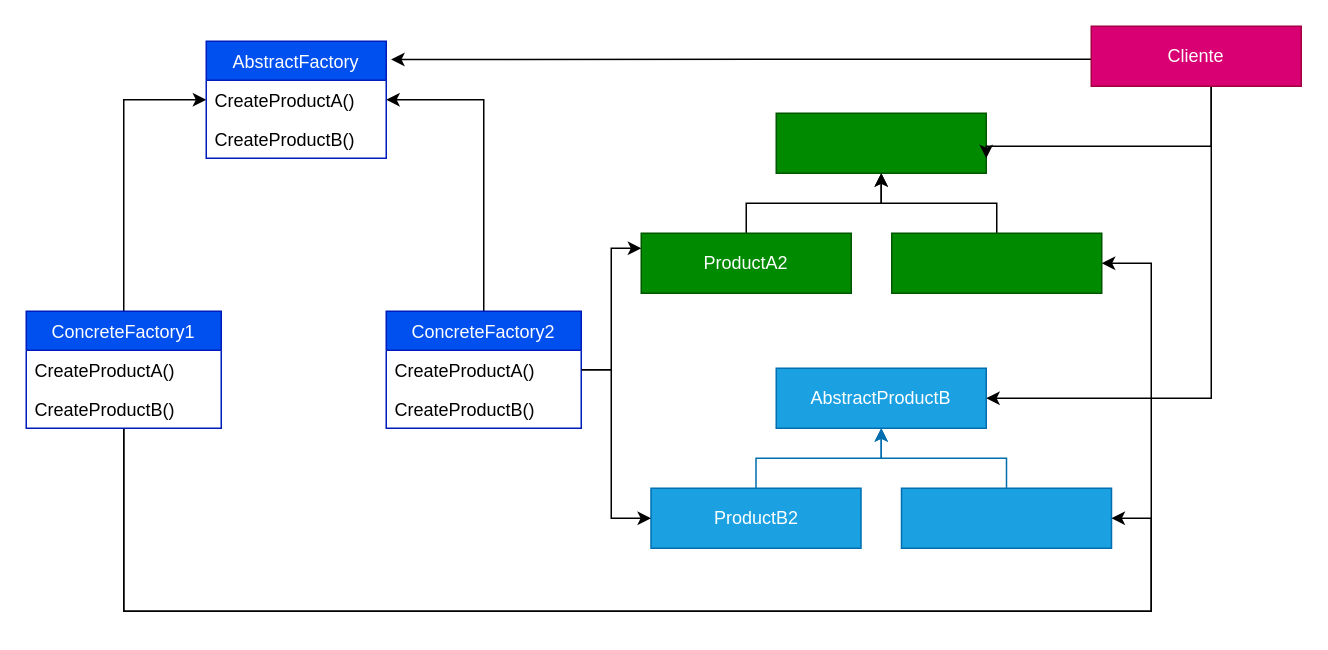
This 1328x650 diagram has some shape labels left out. Each missing label, with the centre of its shape:
AbstractProductA: (880,142)
ProductA1: (996,262)
ProductB1: (1006,517)
